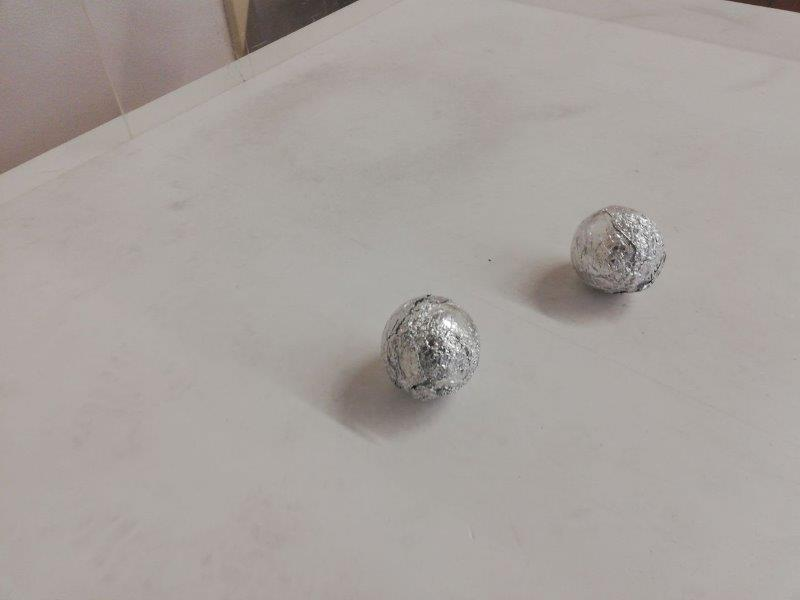bianca: (377, 290, 484, 400), (567, 206, 665, 295)
